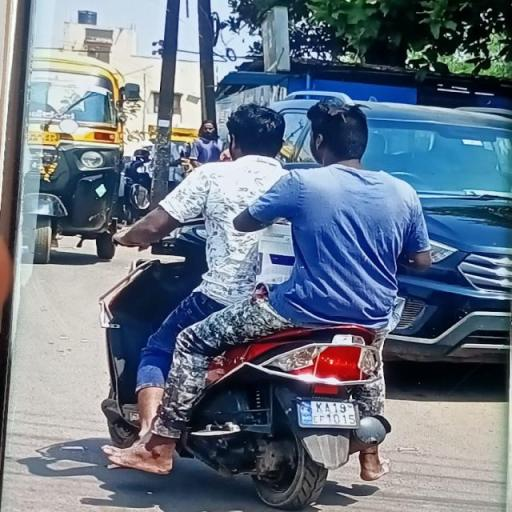bike: (92, 93, 438, 512)
numberplate: (304, 397, 364, 430)
withouthelmet: (310, 99, 368, 162), (229, 105, 283, 157)
